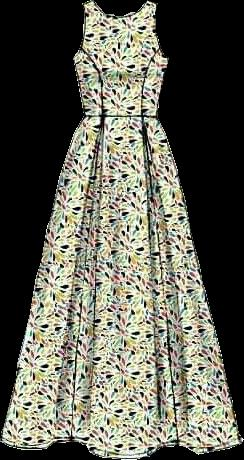Bodice: (73, 0, 168, 118)
Hemline: (0, 437, 243, 459)
Neckline: (89, 0, 152, 19)
Skirt: (1, 116, 243, 459)
Waistline: (82, 111, 159, 120)
